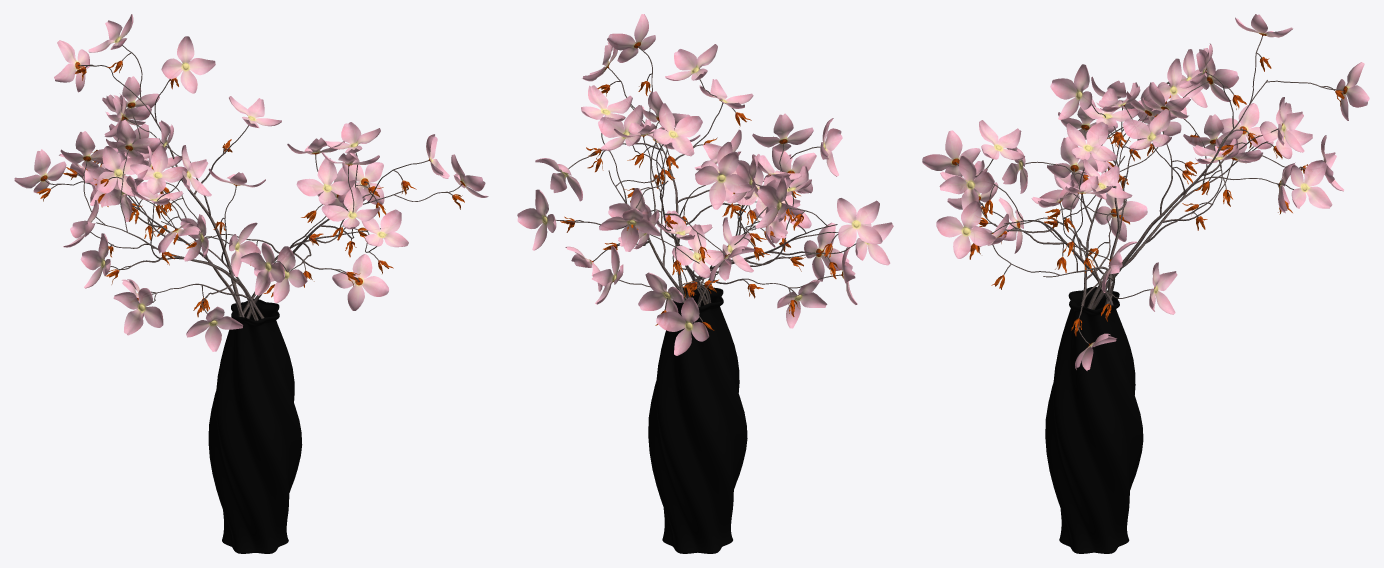
The model's file is flowers_with_the_vase.glb.
3 renders of one model, left to right at view 1: azimuth 30°, elevation 25°; view 2: azimuth 150°, elevation 25°; view 3: azimuth 270°, elevation 25°, orthographic. The views are drawn at different scales.
Visible parts, largest first — view 1: GrowFX01, Plane01; view 2: GrowFX01, Plane01; view 3: GrowFX01, Plane01.
Boxes of the visible parts, left/top/right/bottom form: GrowFX01: left=14, top=14, right=488, bottom=351; Plane01: left=208, top=298, right=302, bottom=553; GrowFX01: left=517, top=14, right=893, bottom=355; Plane01: left=648, top=284, right=747, bottom=553; GrowFX01: left=922, top=14, right=1369, bottom=370; Plane01: left=1045, top=286, right=1143, bottom=553.
Size of the model in its own units: 0.9261 by 1.21 by 0.9771.
Materials: 4 (3 with a texture image).
